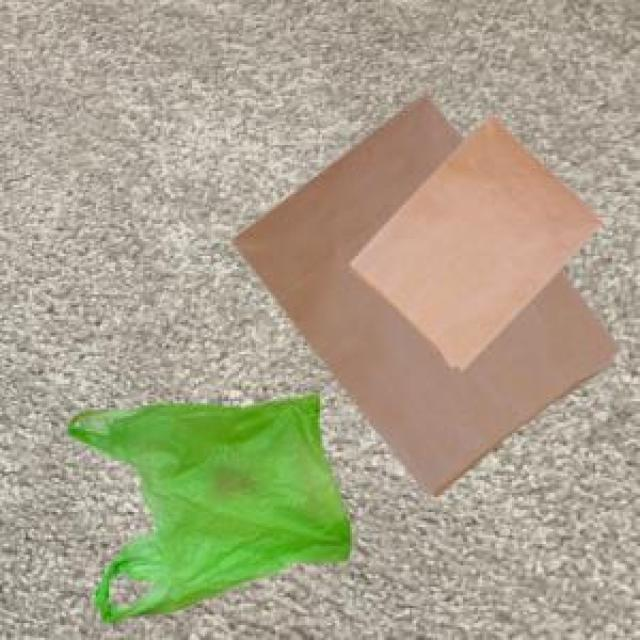paper: (228, 90, 617, 493), (346, 111, 600, 365)
